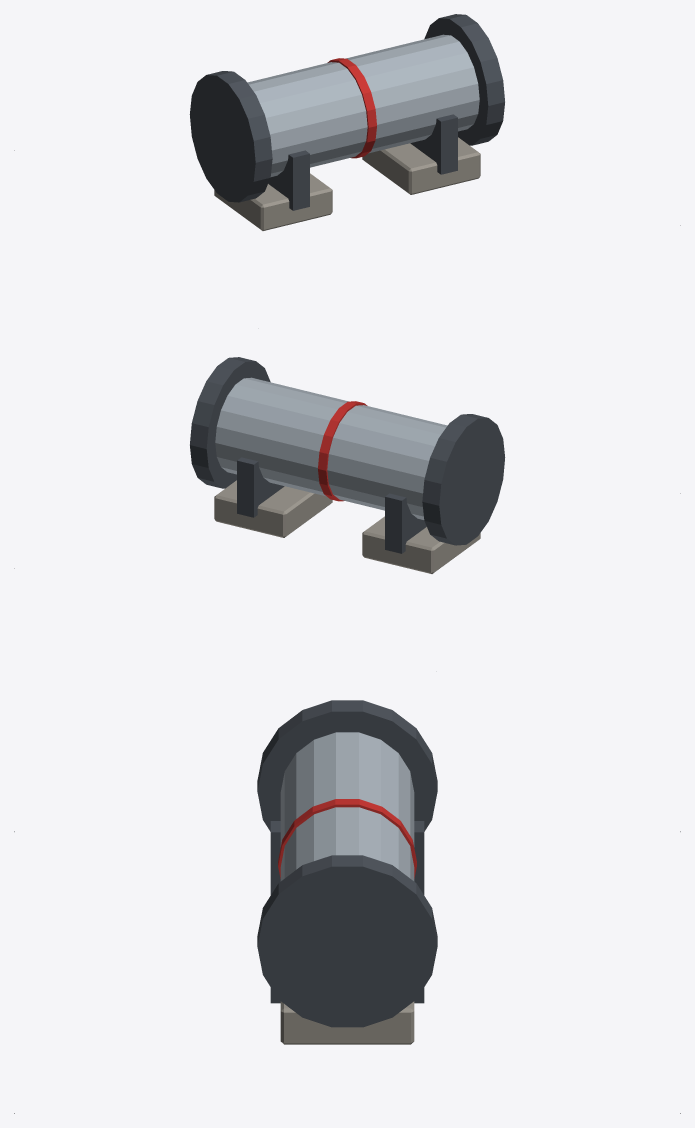
Rendered from tuyau_seul_t3.glb.
The picture shows the model from 3 angles, top to bottom: view 1: azimuth 30°, elevation 25°; view 2: azimuth 150°, elevation 25°; view 3: azimuth 270°, elevation 25°; orthographic projection. The views are drawn at different scales.
Visible parts, largest first — view 1: pieces_inox.014, pieces_acier_sombre.050, pieces_beton.030, pieces_rive_t3.014; view 2: pieces_inox.014, pieces_acier_sombre.050, pieces_beton.030, pieces_rive_t3.014; view 3: pieces_acier_sombre.050, pieces_inox.014, pieces_beton.030, pieces_rive_t3.014.
Part boxes in pixels (x1,y1,x2,y2): pieces_inox.014: (247,34,479,176); pieces_acier_sombre.050: (189,14,504,210); pieces_beton.030: (214,137,480,230); pieces_rive_t3.014: (327,58,376,158); pieces_inox.014: (215,377,447,519); pieces_acier_sombre.050: (190,357,505,553); pieces_beton.030: (214,480,480,573); pieces_rive_t3.014: (318,401,367,501); pieces_acier_sombre.050: (257,700,437,1027); pieces_inox.014: (280,732,414,881); pieces_beton.030: (280,1001,414,1044); pieces_rive_t3.014: (278,799,416,878).
Bounding box in the file's own units: 1 × 0.3129 × 1.
